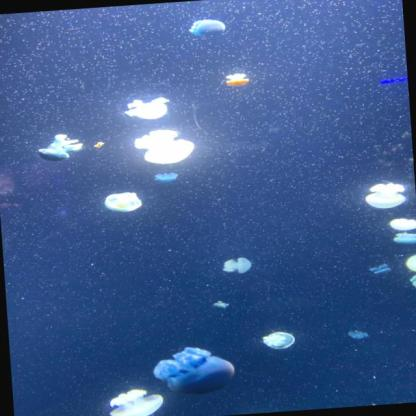jellyfish: (154, 344, 238, 398), (134, 127, 198, 168), (104, 388, 166, 415), (34, 132, 84, 164), (364, 182, 406, 210), (124, 97, 168, 121), (102, 190, 144, 214), (261, 330, 296, 352), (187, 19, 226, 38), (223, 255, 252, 275), (388, 216, 416, 234), (224, 73, 250, 88), (391, 233, 415, 247), (404, 253, 415, 275), (153, 173, 178, 182), (371, 266, 392, 276), (349, 330, 368, 340), (211, 301, 226, 309)
